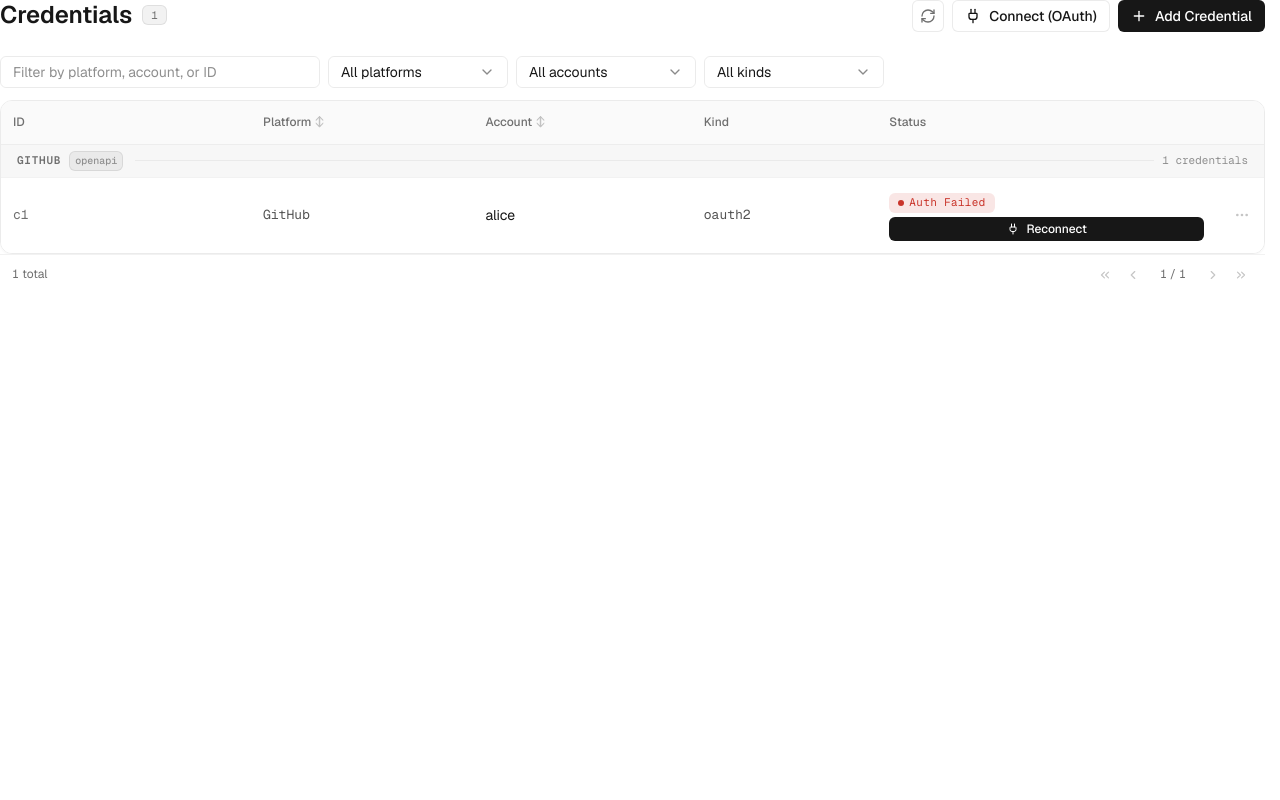
CredentialsPage — OAuth status badges (Expiring / Auth Failed) + Reconnect › clicking Reconnect opens a dialog that REUSES stored creds — no BYO fields until 'Use different'
Click the button "Reconnect": (1047, 228) [889,216,1204,240]
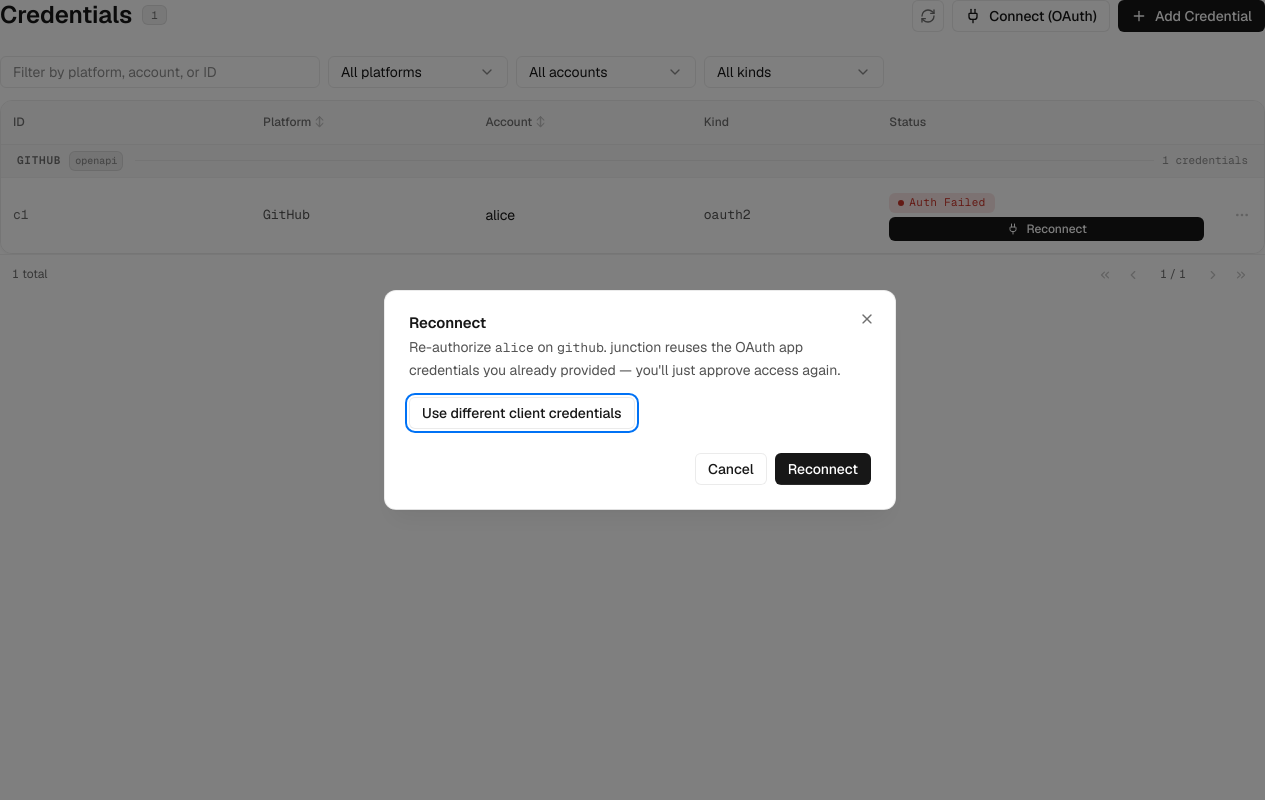
Now the dialog is shown, box [384,290,896,510]
Now the button "Use different client credentials" is shown, box [409,397,635,429]
